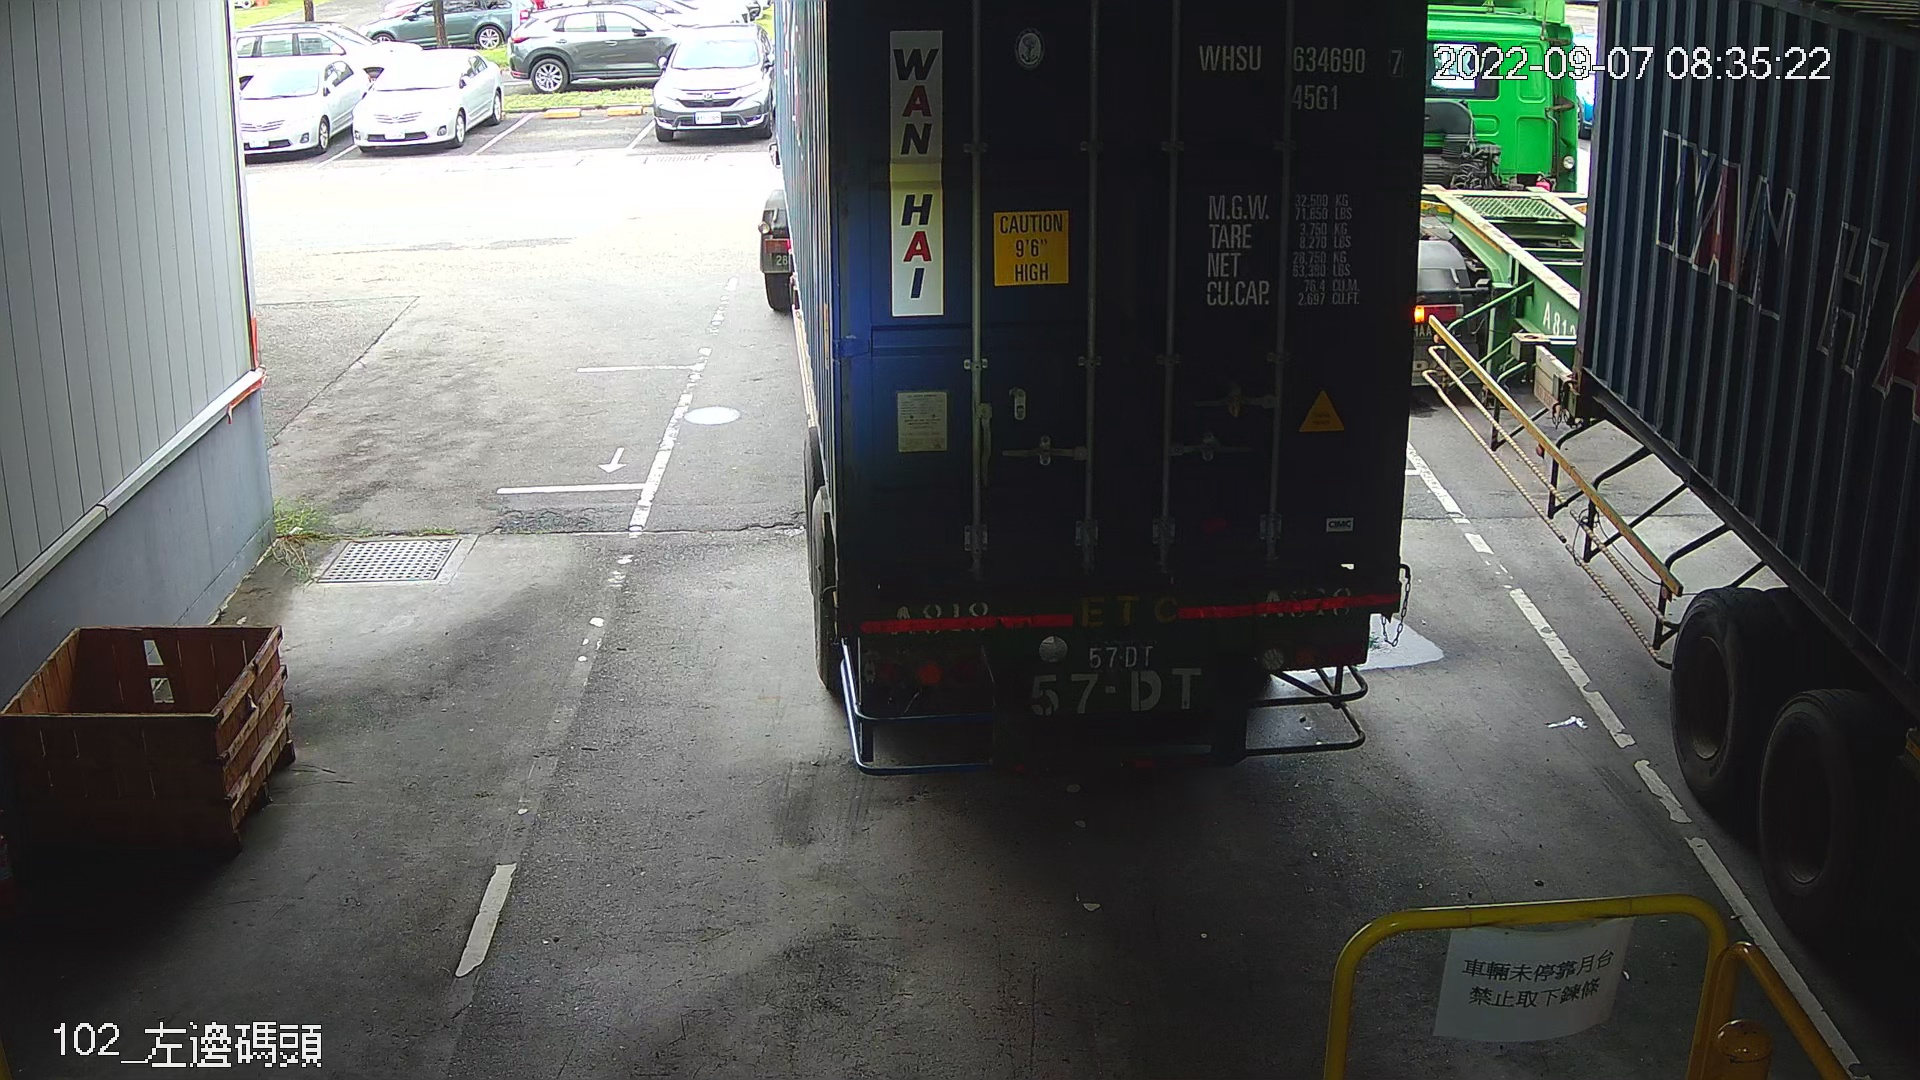container: (1188, 32, 1414, 120)
